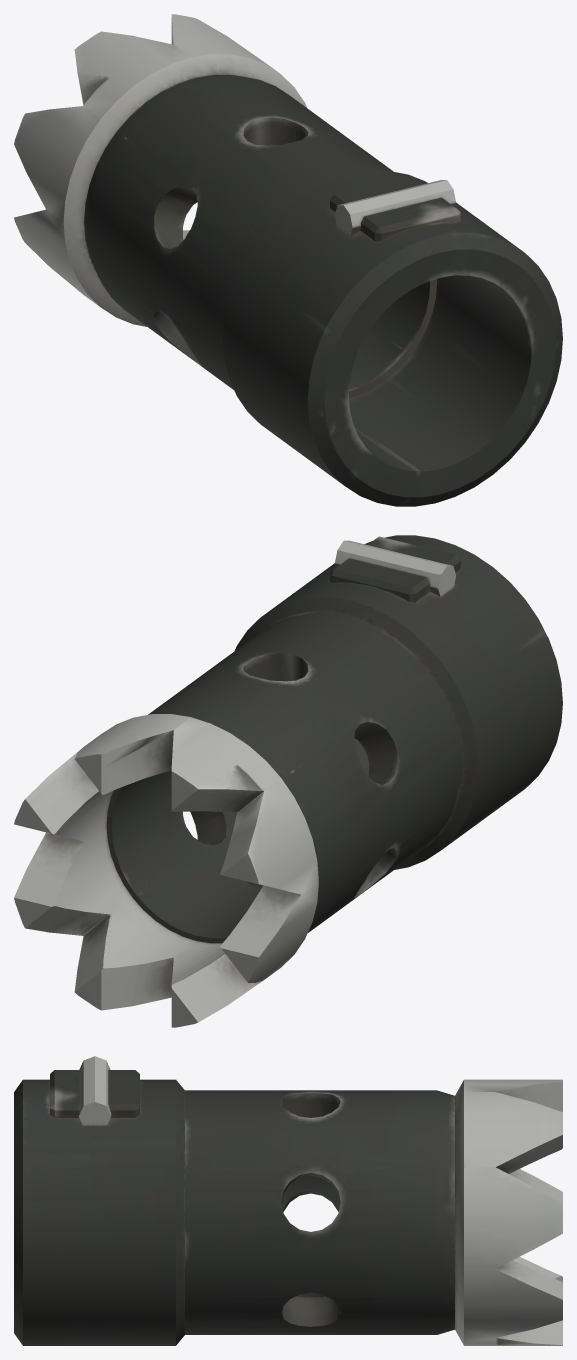
The model's file is freio_rompimento_12.glb.
The picture shows the model from 3 angles, top to bottom: view 1: azimuth 30°, elevation 25°; view 2: azimuth 150°, elevation 25°; view 3: azimuth 270°, elevation 25°; orthographic projection. The views are drawn at different scales.
Parts seen in each view (by area): view 1: freio_rompimento_12_boca; view 2: freio_rompimento_12_boca; view 3: freio_rompimento_12_boca.
Part boxes in pixels (box(x1,y1,x2,y2)): freio_rompimento_12_boca: box(14, 14, 562, 506); freio_rompimento_12_boca: box(14, 535, 562, 1027); freio_rompimento_12_boca: box(14, 1056, 562, 1345).
Bounding box in the file's own units: 0.0296 × 0.0312 × 0.061.
1 material, 1 textured.
